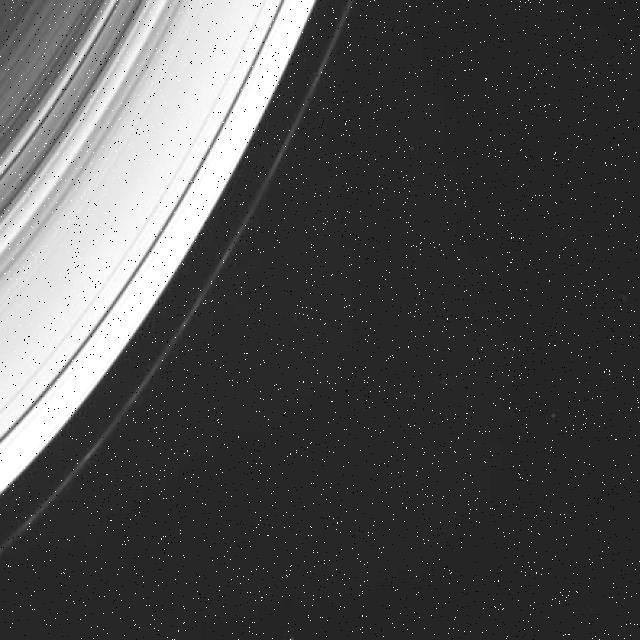Saturn: (0, 0, 375, 615)
